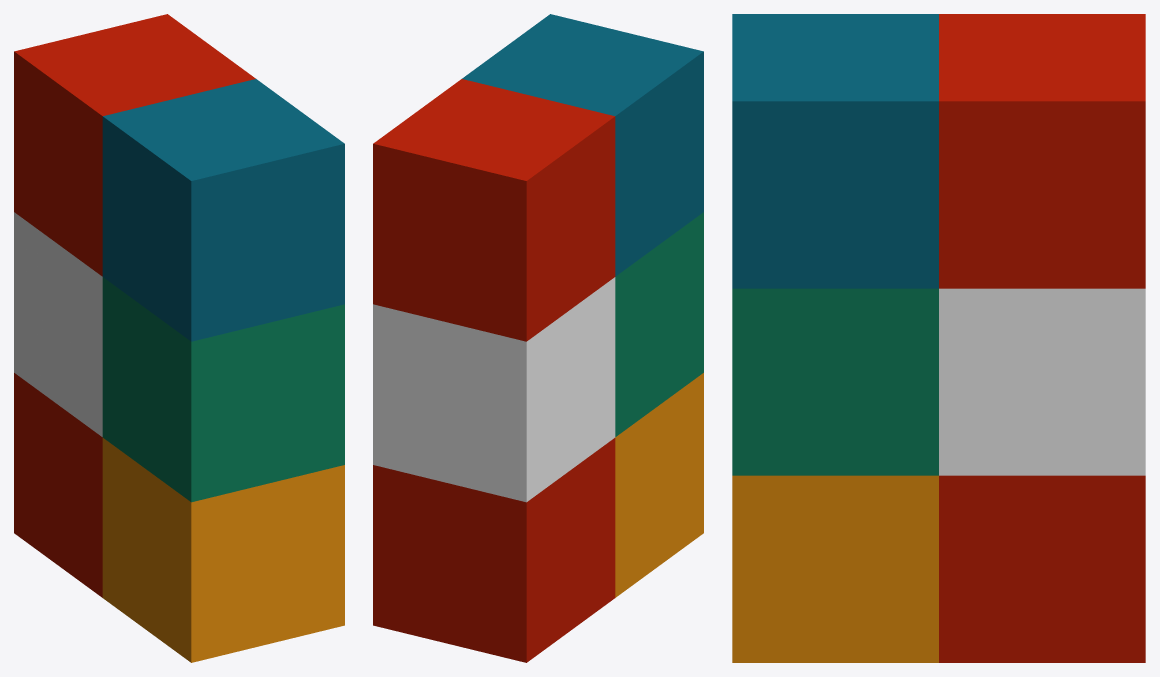
The model's file is RubixCube1.obj.
The picture shows the model from 3 angles, left to right: view 1: azimuth 30°, elevation 25°; view 2: azimuth 150°, elevation 25°; view 3: azimuth 270°, elevation 25°; orthographic projection. The views are drawn at different scales.
Parts seen in each view (by area): view 1: RubixCube1; view 2: RubixCube1; view 3: RubixCube1.
Boxes of the visible parts, x1,y1,x2,y2 form: RubixCube1: (14, 14, 344, 662); RubixCube1: (373, 14, 703, 662); RubixCube1: (732, 14, 1145, 662).
Bounding box in the file's own units: 1 × 3 × 2.
1 material, 1 textured.
